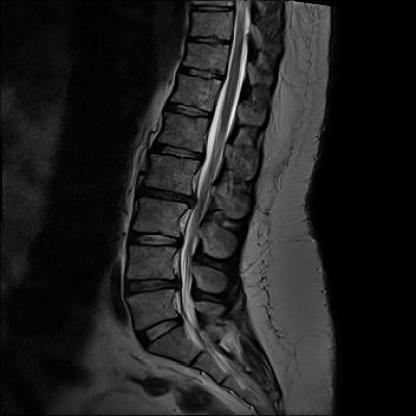Annular Disc Relaxationrotation: (131, 231, 180, 252), (150, 143, 203, 161)
Degenerative Disc Diseaserotation: (138, 185, 194, 207), (125, 278, 175, 297)
Disc Bulgerotation: (138, 185, 194, 207), (124, 278, 174, 297), (135, 322, 183, 340)
